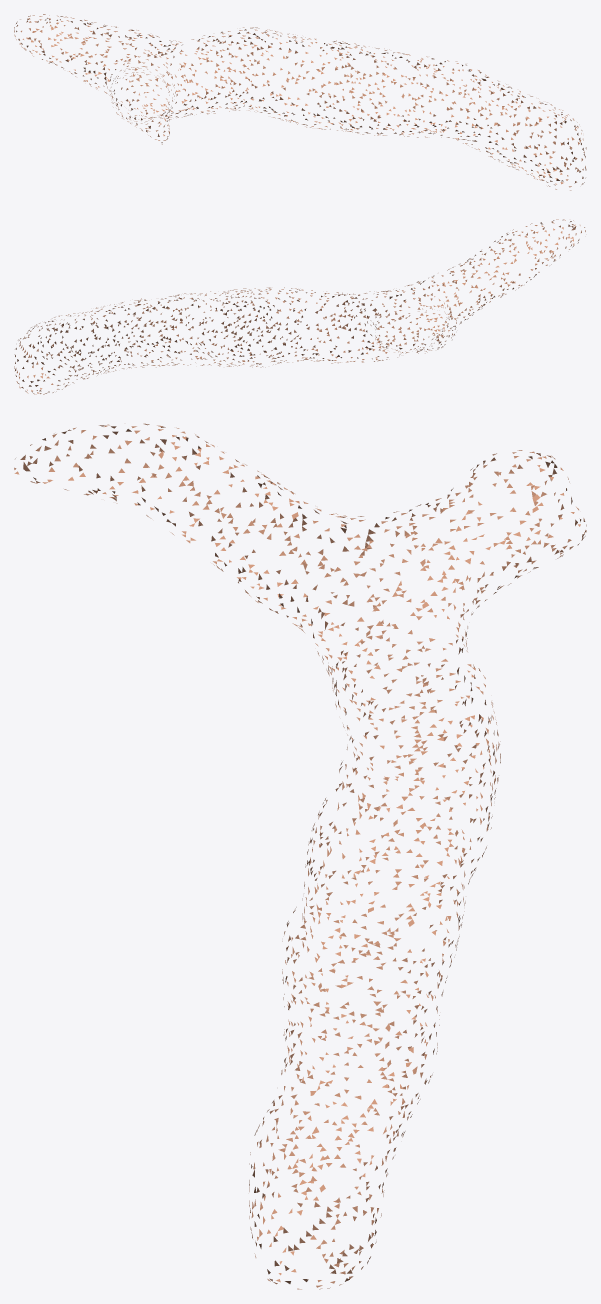
File: morph_004.glb
3 views of the same model, one above another, from view 1: azimuth 30°, elevation 25°; view 2: azimuth 150°, elevation 25°; view 3: azimuth 270°, elevation 25° (orthographic). The views are drawn at different scales.
Size of the model in its own units: 113 by 53.75 by 62.16.
